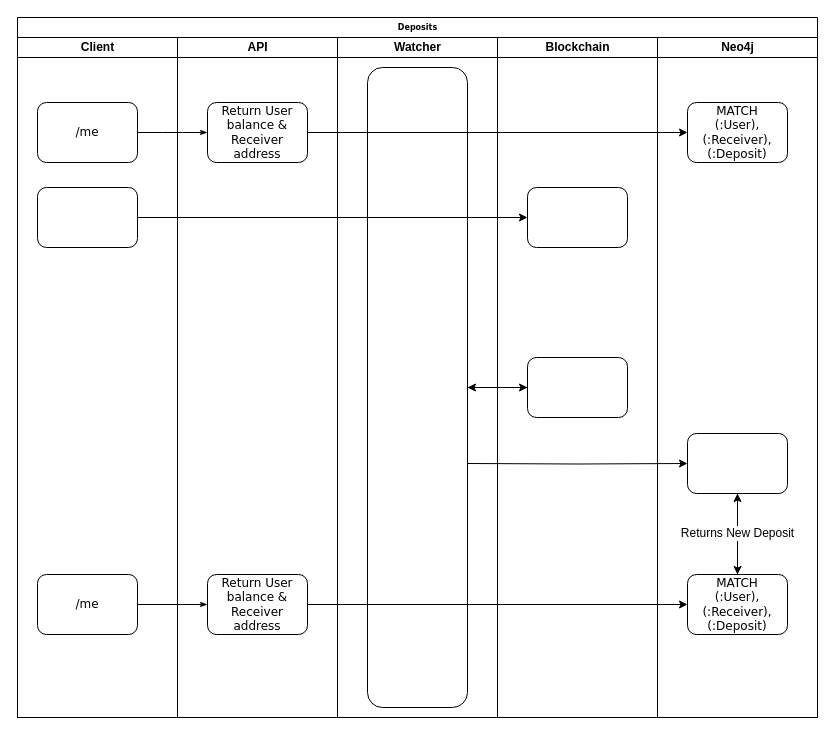
The diagram is 835 pixels wide and 735 high, and some of its shapes have lost their labels. Here are the shapes that lost their labels. From the top down, the centre of each, then its label:
At pixel 87 217: "Transfer ERC20 to Receiver address".
At pixel 577 217: "ERC20 Contract emit Transfer".
At pixel 417 387: "Polling".
At pixel 577 387: "Event found".
At pixel 737 463: "CREATE (:Deposit)".
